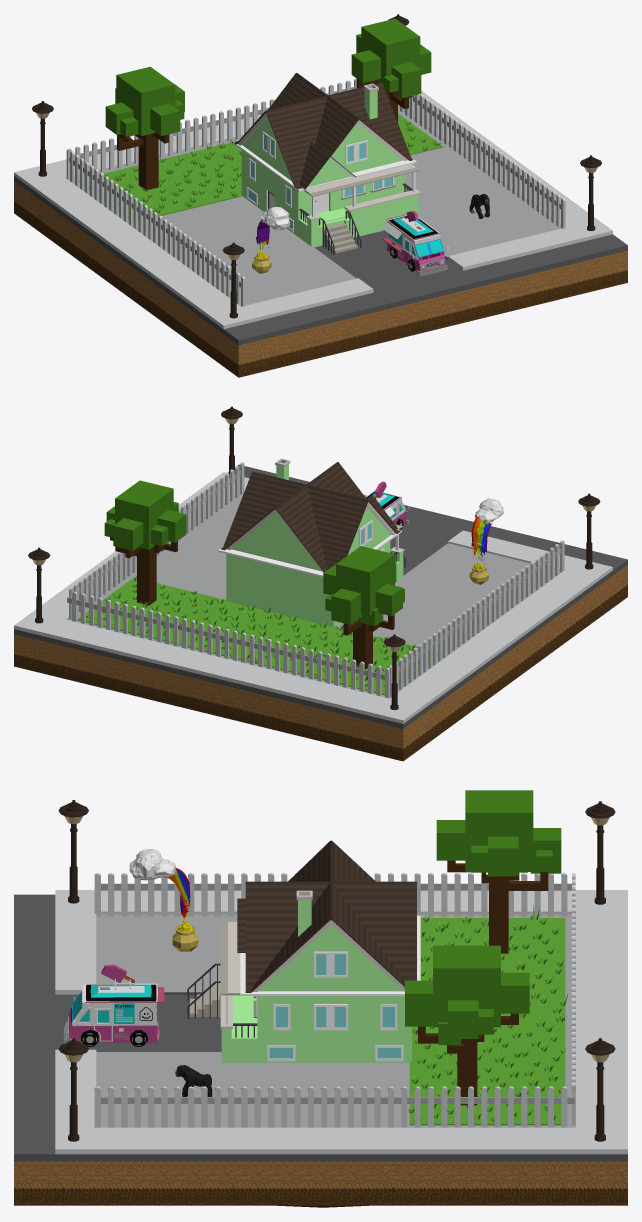
The picture shows the model from 3 angles, top to bottom: view 1: azimuth 30°, elevation 25°; view 2: azimuth 150°, elevation 25°; view 3: azimuth 270°, elevation 25°; orthographic projection. The views are drawn at different scales.
Visible parts, largest first — view 1: Cube.004, Cube.274, VEHICLES_ICE_CREAM_TRUCK, OBJRANDOM_RAINBOW; view 2: Cube.004, Cube.274, OBJRANDOM_RAINBOW, VEHICLES_ICE_CREAM_TRUCK; view 3: Cube.004, Cube.274, VEHICLES_ICE_CREAM_TRUCK, OBJRANDOM_RAINBOW, ANIMAL_GORILA.
Boxes of the visible parts, left/top/right/bottom form: Cube.004: left=14, top=14, right=627, bottom=377; Cube.274: left=233, top=73, right=421, bottom=254; VEHICLES_ICE_CREAM_TRUCK: left=382, top=210, right=448, bottom=276; OBJRANDOM_RAINBOW: left=252, top=206, right=290, bottom=273; Cube.004: left=14, top=406, right=627, bottom=761; Cube.274: left=218, top=458, right=405, bottom=626; OBJRANDOM_RAINBOW: left=469, top=498, right=503, bottom=584; VEHICLES_ICE_CREAM_TRUCK: left=365, top=481, right=410, bottom=529; Cube.004: left=14, top=790, right=627, bottom=1205; Cube.274: left=187, top=840, right=420, bottom=1062; VEHICLES_ICE_CREAM_TRUCK: left=63, top=964, right=164, bottom=1046; OBJRANDOM_RAINBOW: left=129, top=849, right=198, bottom=951; ANIMAL_GORILA: left=175, top=1065, right=212, bottom=1096.
Bounding box in the file's own units: 4000 × 1667 × 4000.
48 materials, 3 textured.
